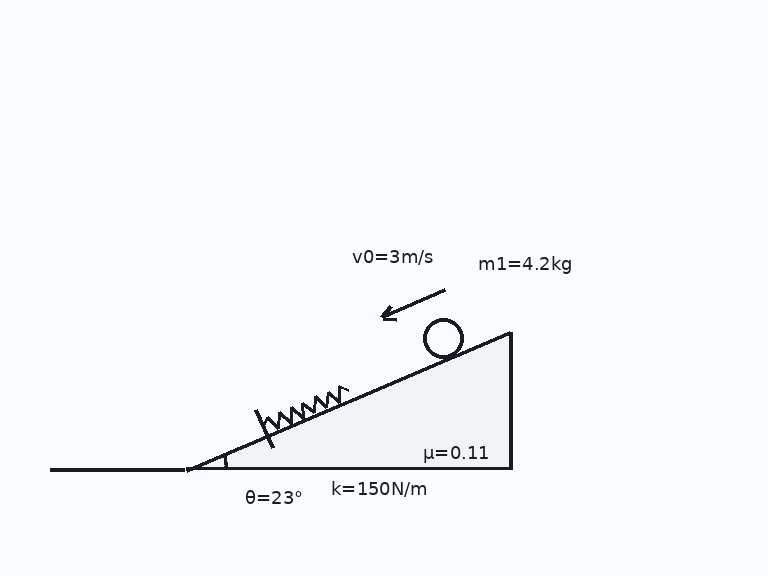ball: (421, 316, 465, 360)
ramp: (184, 329, 512, 471)
spring: (261, 385, 350, 430)
